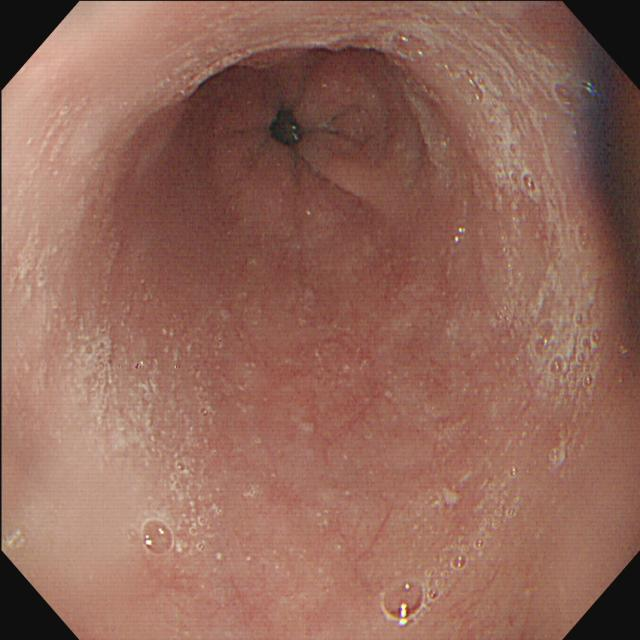E: (269, 111, 312, 154)
I: (190, 42, 418, 258)
T: (378, 496, 525, 632), (134, 425, 231, 565), (527, 220, 600, 395), (460, 43, 575, 124), (72, 315, 126, 431), (487, 132, 561, 215)
